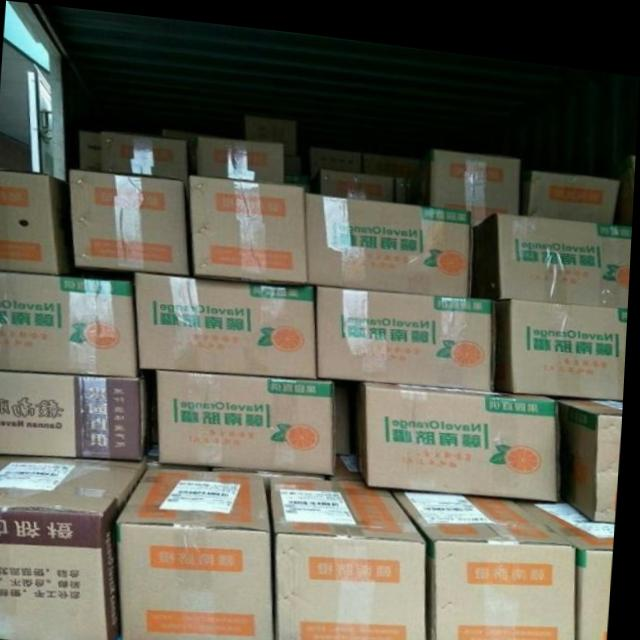box: (396, 479, 583, 640), (121, 461, 278, 640), (0, 454, 148, 640), (275, 469, 434, 640), (369, 371, 564, 487), (161, 365, 340, 469), (138, 268, 320, 368), (320, 277, 496, 376), (305, 185, 474, 284), (519, 486, 618, 640), (0, 271, 139, 373), (0, 368, 149, 458), (497, 199, 634, 293), (189, 169, 309, 275), (70, 167, 191, 270), (515, 286, 628, 386), (558, 384, 625, 508), (0, 167, 74, 272), (430, 139, 521, 216), (529, 157, 623, 211), (199, 130, 285, 177), (100, 129, 188, 174), (319, 159, 396, 191)
